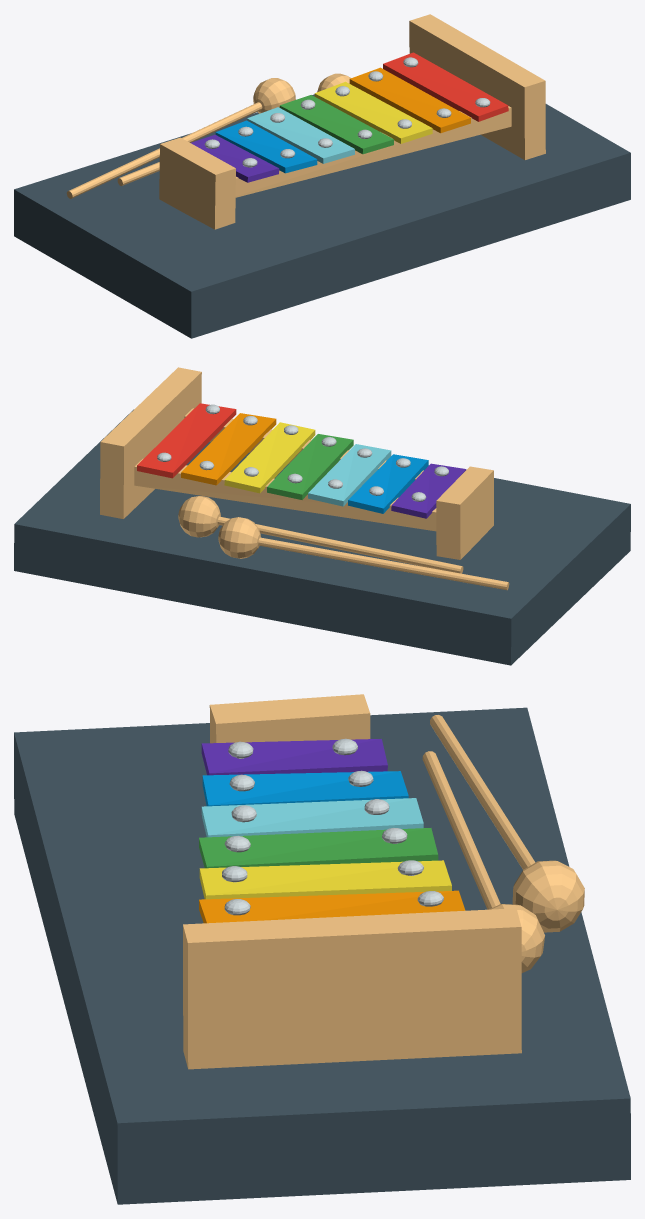
3 renders of one model, top to bottom at view 1: azimuth 30°, elevation 25°; view 2: azimuth 150°, elevation 25°; view 3: azimuth 270°, elevation 25°, orthographic. The views are drawn at different scales.
Visible parts, largest first — view 1: group2018076649, group1661938207, group1893831560; view 2: group2018076649, group1661938207, group1893831560; view 3: group2018076649, group1661938207, group1893831560.
Part boxes in pixels (x1,y1,x2,y2): group2018076649: [14, 14, 630, 338]; group1661938207: [66, 78, 295, 198]; group1893831560: [117, 73, 351, 185]; group2018076649: [14, 367, 630, 665]; group1661938207: [218, 517, 509, 590]; group1893831560: [178, 496, 463, 573]; group2018076649: [14, 694, 630, 1204]; group1661938207: [430, 715, 584, 932]; group1893831560: [422, 751, 544, 972].
Size of the model in its own units: 2.67 by 0.6298 by 1.66.
